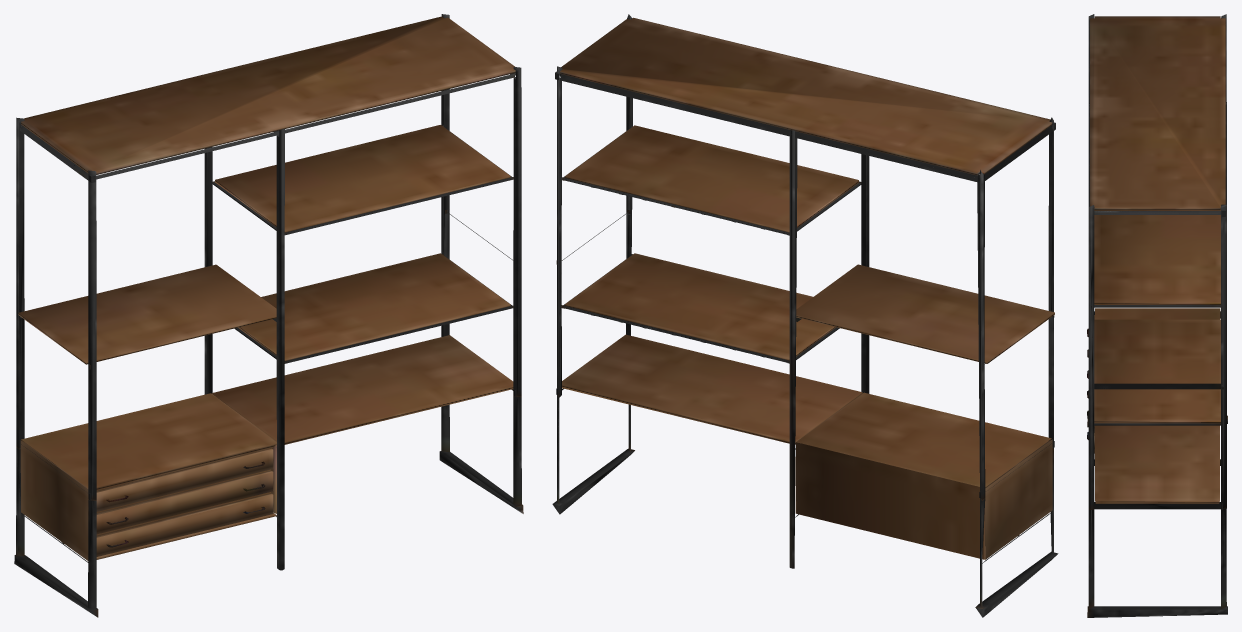
The model's file is steel_frame_shelves_03_lod2.glb.
The picture shows the model from 3 angles, left to right: view 1: azimuth 30°, elevation 25°; view 2: azimuth 150°, elevation 25°; view 3: azimuth 270°, elevation 25°; orthographic projection. The views are drawn at different scales.
Parts seen in each view (by area): view 1: steel_frame_shelves_03; view 2: steel_frame_shelves_03; view 3: steel_frame_shelves_03.
Boxes of the visible parts, left/top/right/bottom form: steel_frame_shelves_03: left=14, top=14, right=523, bottom=617; steel_frame_shelves_03: left=552, top=14, right=1058, bottom=617; steel_frame_shelves_03: left=1087, top=14, right=1227, bottom=617.
Size of the model in its own units: 2.35 by 2.31 by 0.719.
2 materials, 2 textured.
